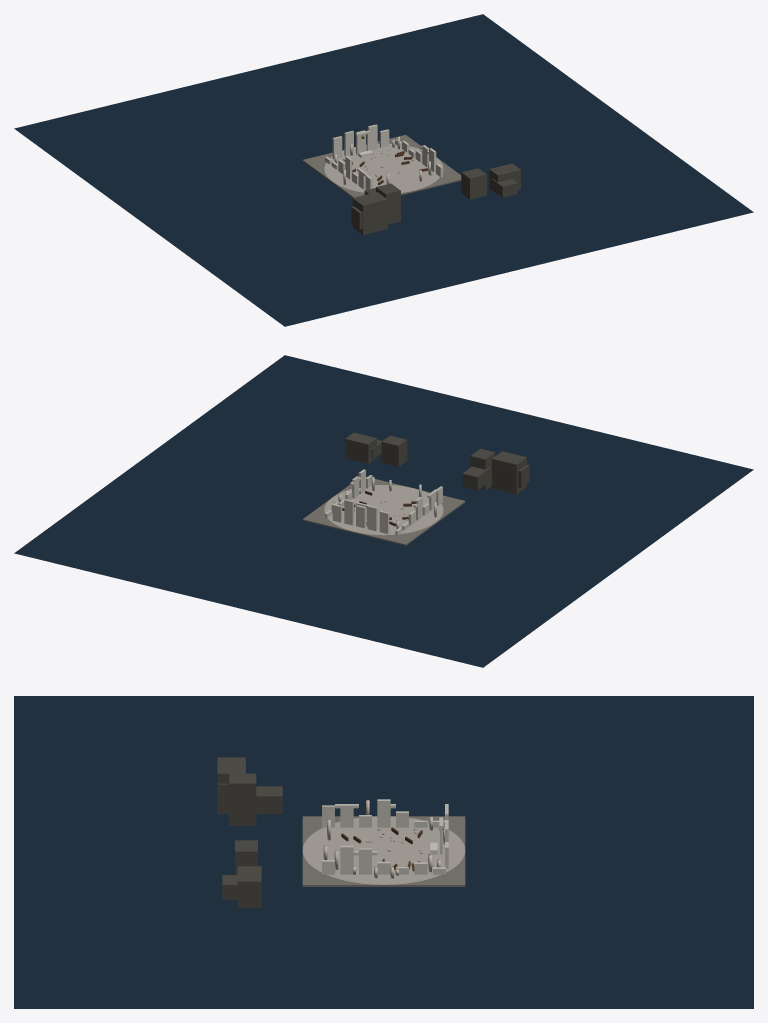
Rendered from chapel.glb.
3 renders of one model, top to bottom at view 1: azimuth 30°, elevation 25°; view 2: azimuth 150°, elevation 25°; view 3: azimuth 270°, elevation 25°, orthographic. The views are drawn at different scales.
Visible parts, largest first — view 1: chapel_0_0, chapel_-1_-1, chapel_0_-1, chapel_-1_0; view 2: chapel_0_0, chapel_-1_-1, chapel_0_-1, chapel_-1_0; view 3: chapel_0_0, chapel_-1_-1, chapel_0_-1, chapel_-1_0.
Boxes of the visible parts, x1,y1,x2,y2 form: chapel_0_0: [14, 14, 753, 326]; chapel_-1_-1: [343, 168, 400, 234]; chapel_0_-1: [398, 145, 520, 199]; chapel_-1_0: [325, 130, 367, 179]; chapel_0_0: [14, 355, 753, 667]; chapel_-1_-1: [400, 448, 529, 517]; chapel_0_-1: [345, 432, 407, 504]; chapel_-1_0: [366, 497, 422, 535]; chapel_0_0: [14, 696, 753, 1008]; chapel_-1_-1: [217, 757, 383, 843]; chapel_0_-1: [222, 840, 384, 908]; chapel_-1_0: [377, 799, 448, 844].
Bounding box in the file's own units: 200 × 16.66 × 200.
